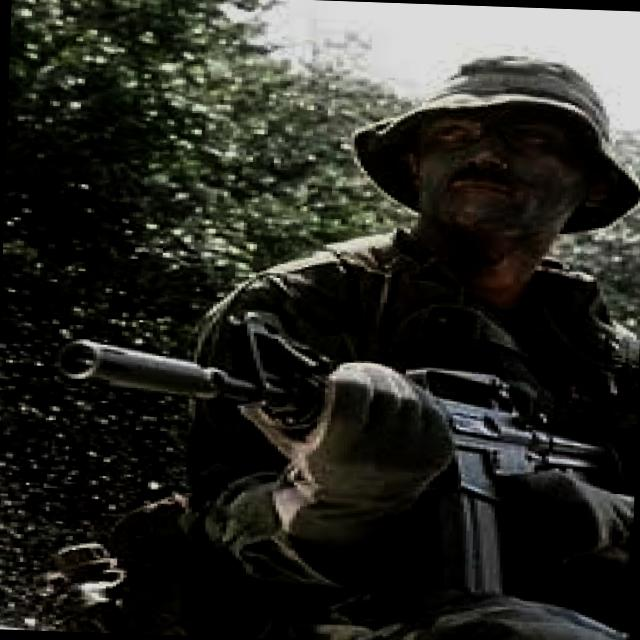m16: (26, 295, 640, 633)
